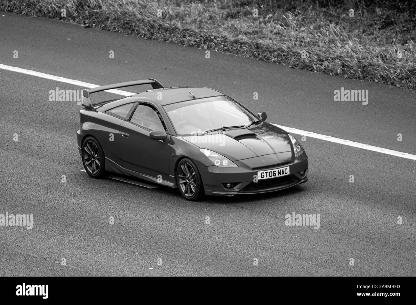license plate: (254, 165, 292, 180)
